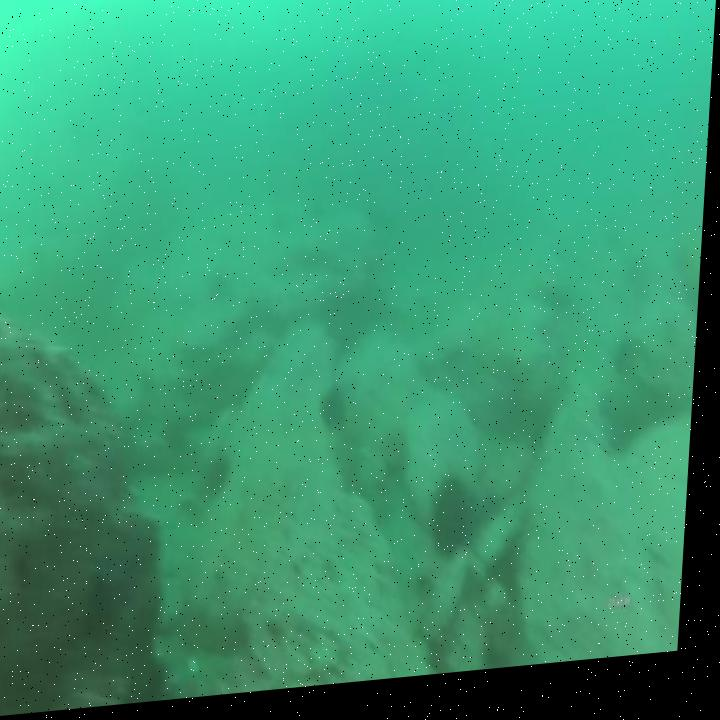echinus: (431, 479, 484, 577), (497, 549, 534, 621), (203, 449, 242, 509), (321, 384, 358, 447), (164, 416, 196, 461), (207, 273, 234, 314)
